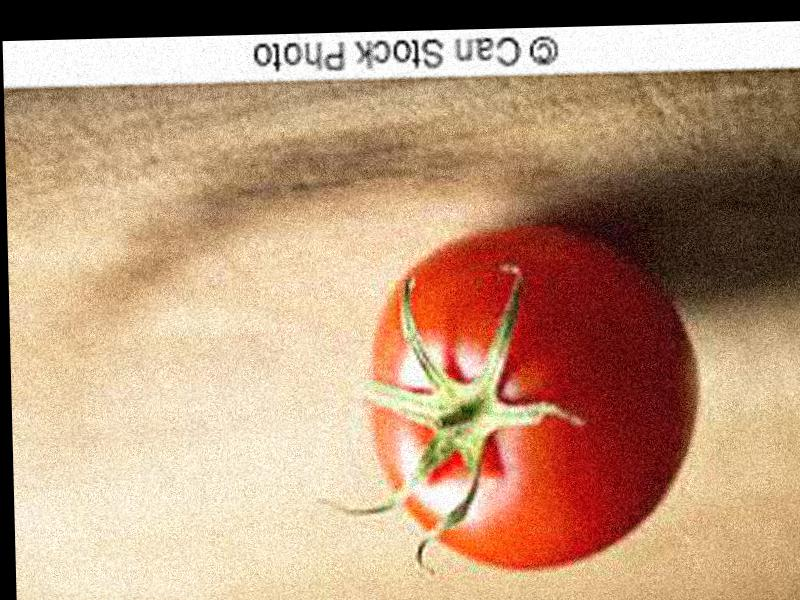Tomato: (361, 224, 700, 568)
